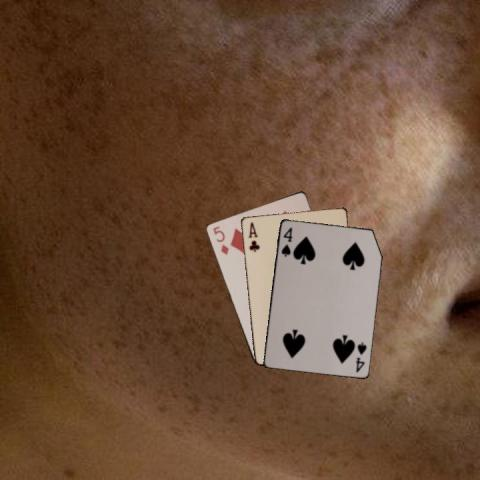4s: (352, 339, 368, 373), (278, 224, 293, 258)
5d: (210, 222, 230, 256)
Ac: (245, 219, 260, 253)
